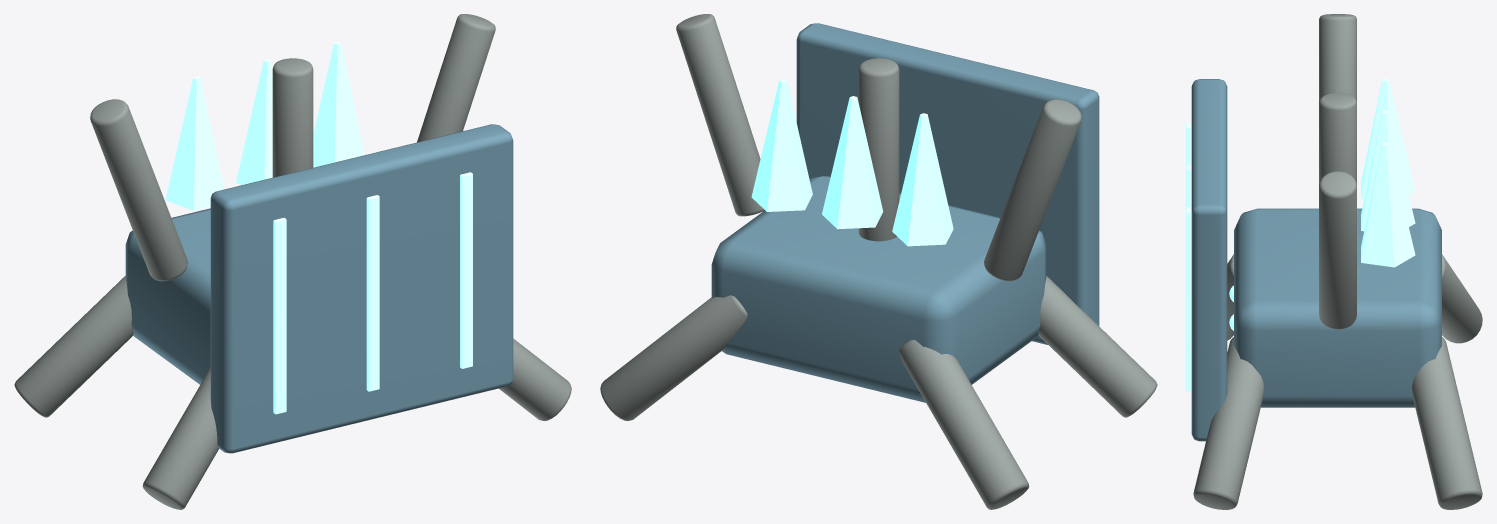
The model's file is card_p1_boss.glb.
3 renders of one model, left to right at view 1: azimuth 30°, elevation 25°; view 2: azimuth 150°, elevation 25°; view 3: azimuth 270°, elevation 25°, orthographic. The views are drawn at different scales.
Visible parts, largest first — view 1: card_p1_boss; view 2: card_p1_boss; view 3: card_p1_boss.
Part boxes in pixels (left/top/right/bottom): card_p1_boss: left=14, top=14, right=571, bottom=509; card_p1_boss: left=600, top=14, right=1157, bottom=509; card_p1_boss: left=1186, top=14, right=1482, bottom=509.
Size of the model in its own units: 2.4 by 1.94 by 1.57.
